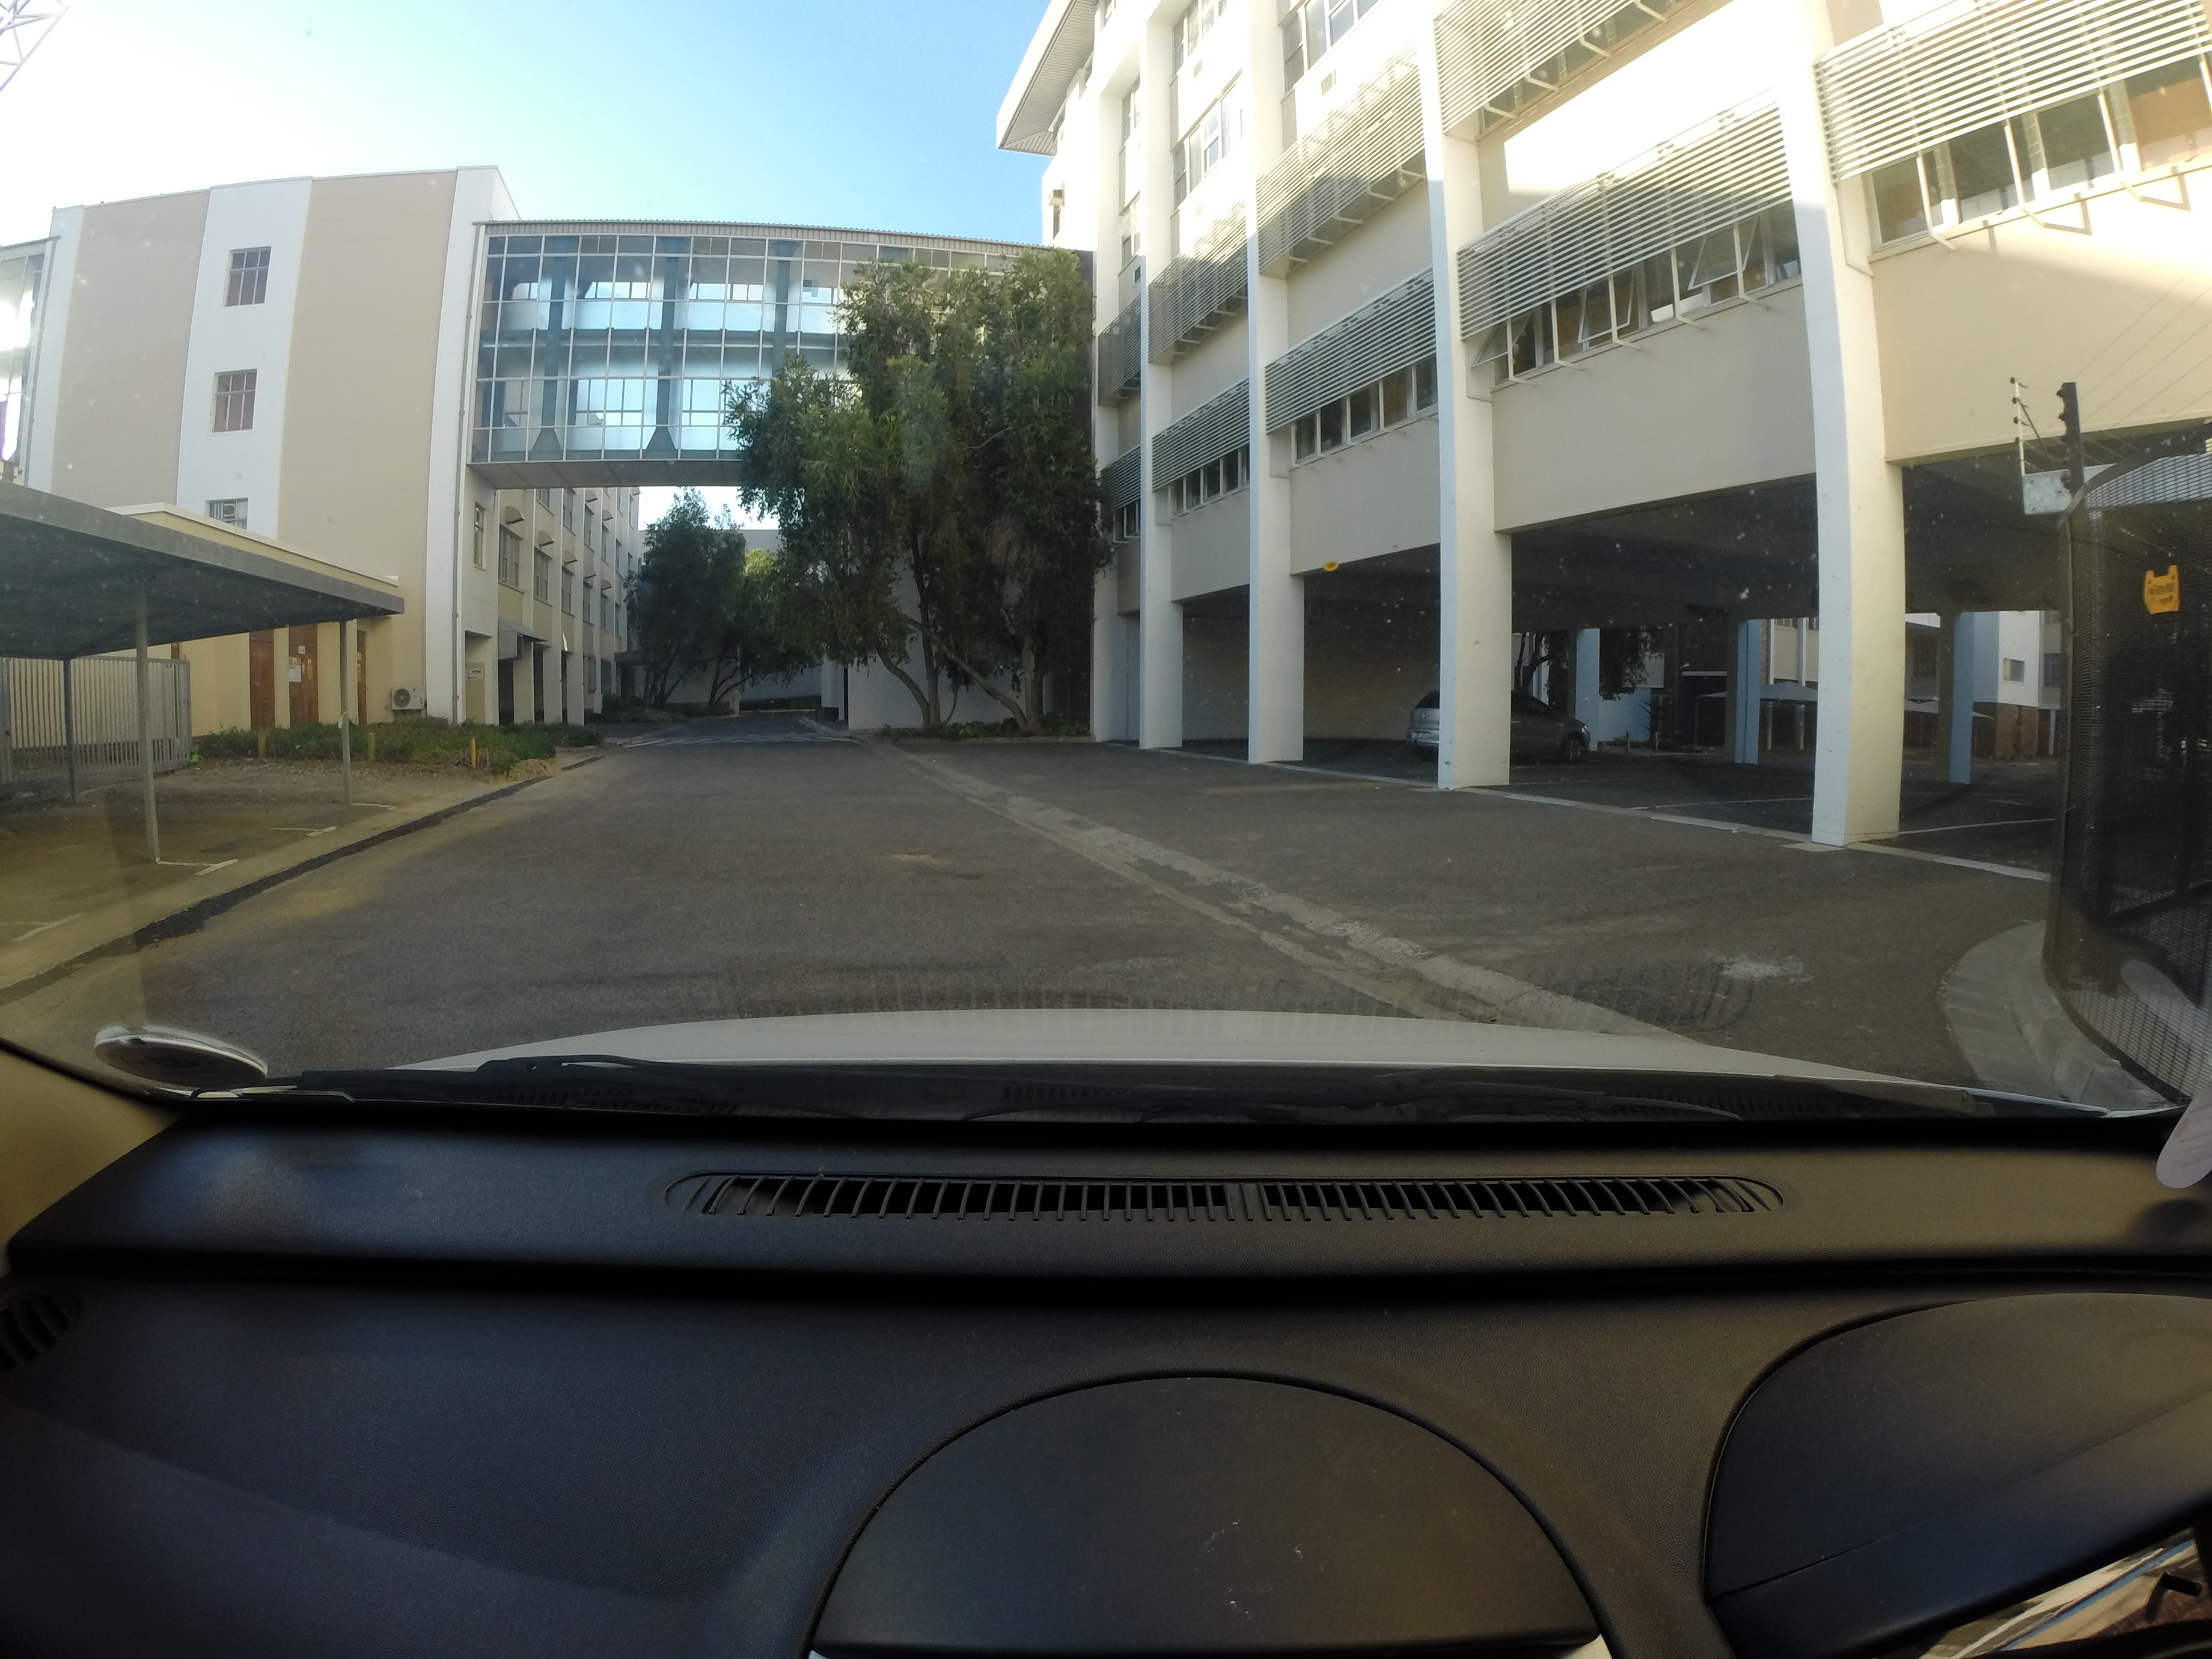pothole: (876, 842, 970, 863)
